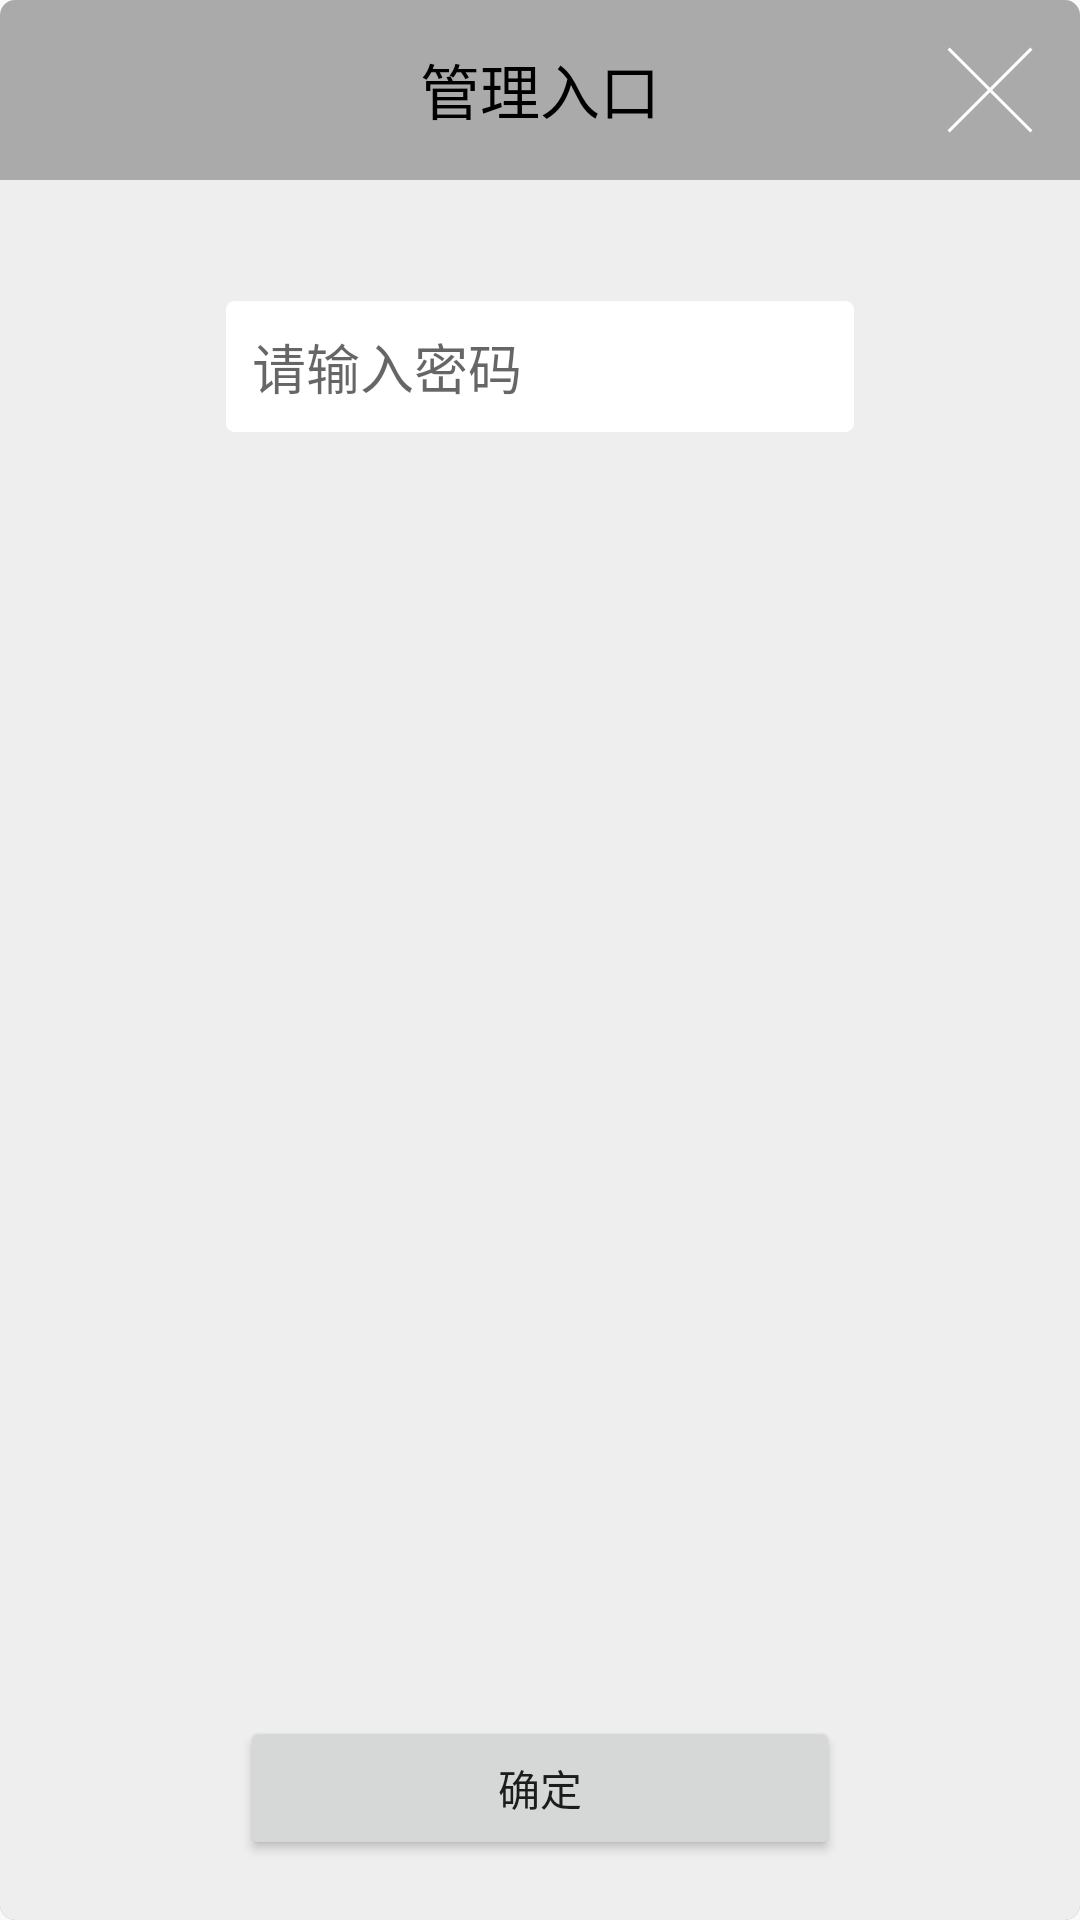

Point at icon controls on the screen. Image size 1080px x 1920px, points as point (x, y).
close: point (990, 90)
